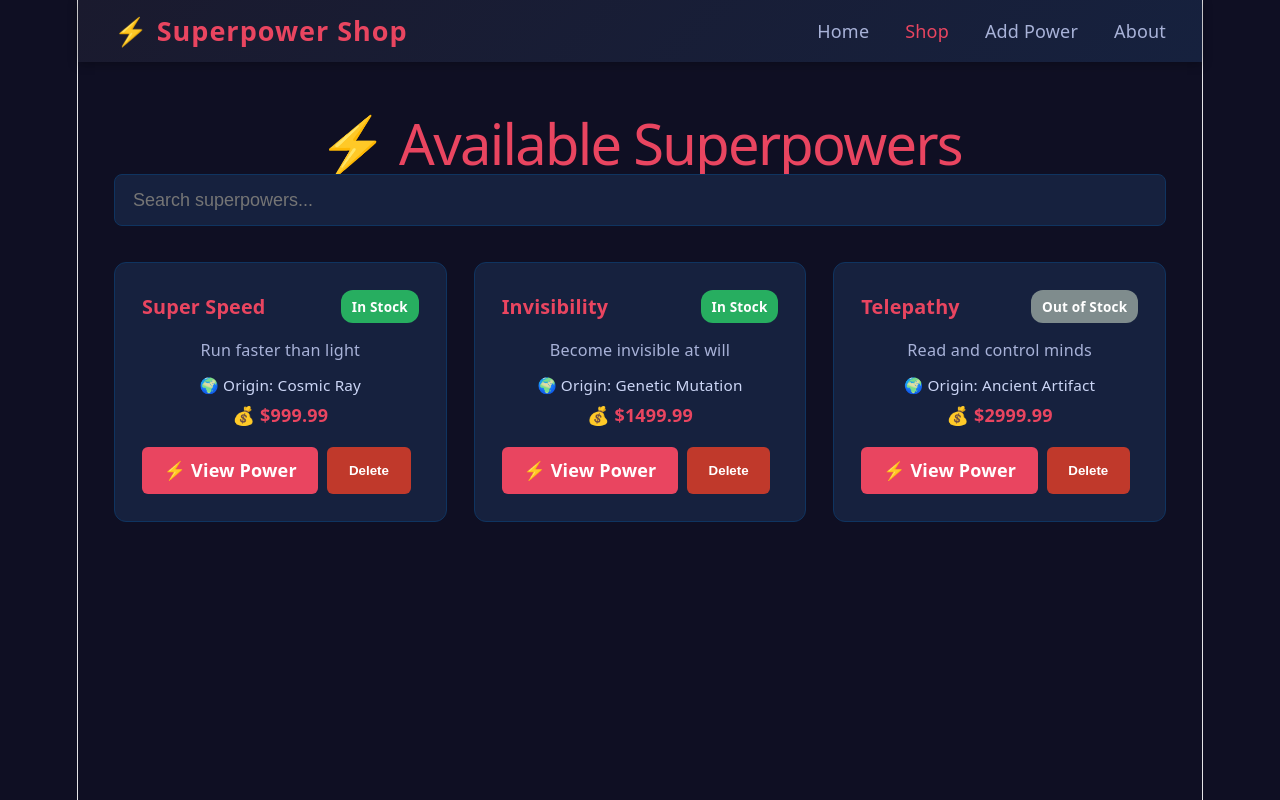
Test case: Search Superpowers › filters superpowers by search input
Check: the heading "Super Speed" is shown, box [142,294,266,320]
Type "speed" into the field with placeholder "Search superpowers..." at (640, 200), box [114,174,1166,226]
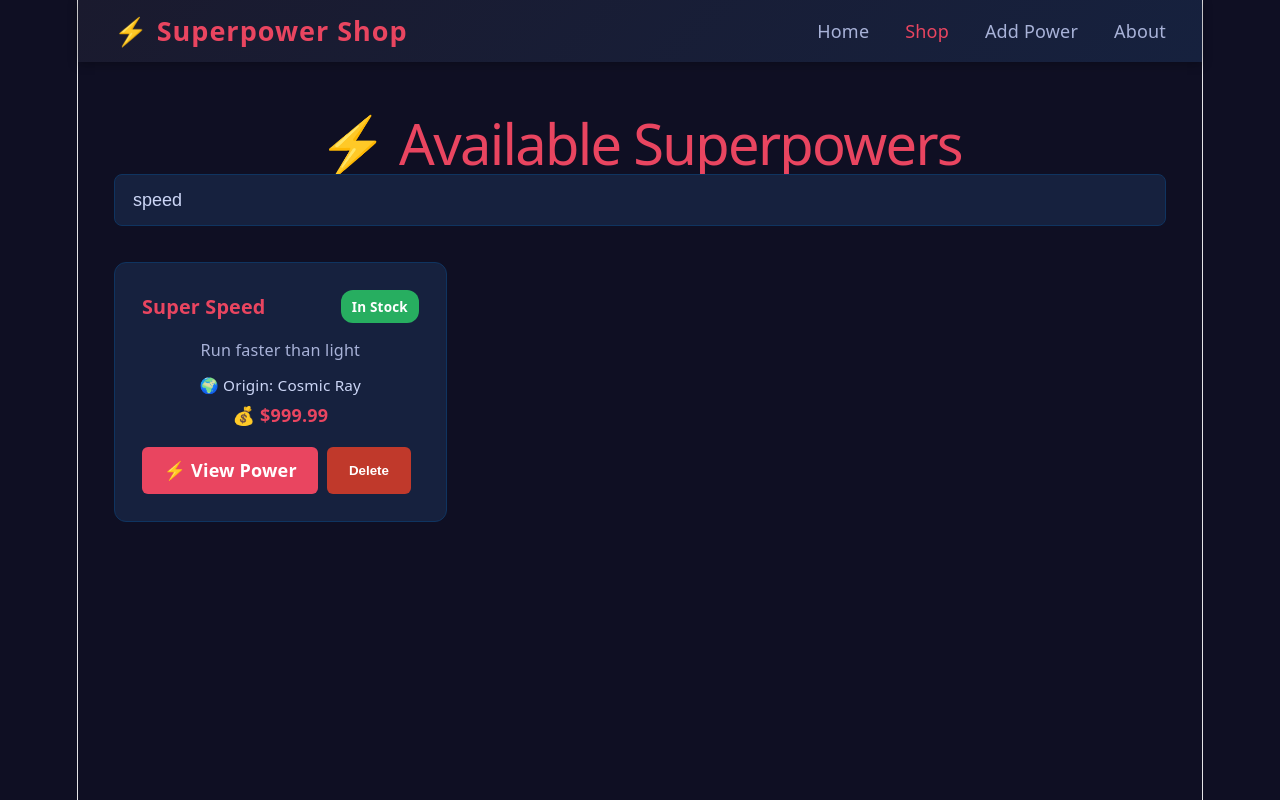
Check: the heading "Super Speed" is shown, box [142,294,266,320]
Check: the heading "Invisibility" is gone
Check: the heading "Telepathy" is gone
